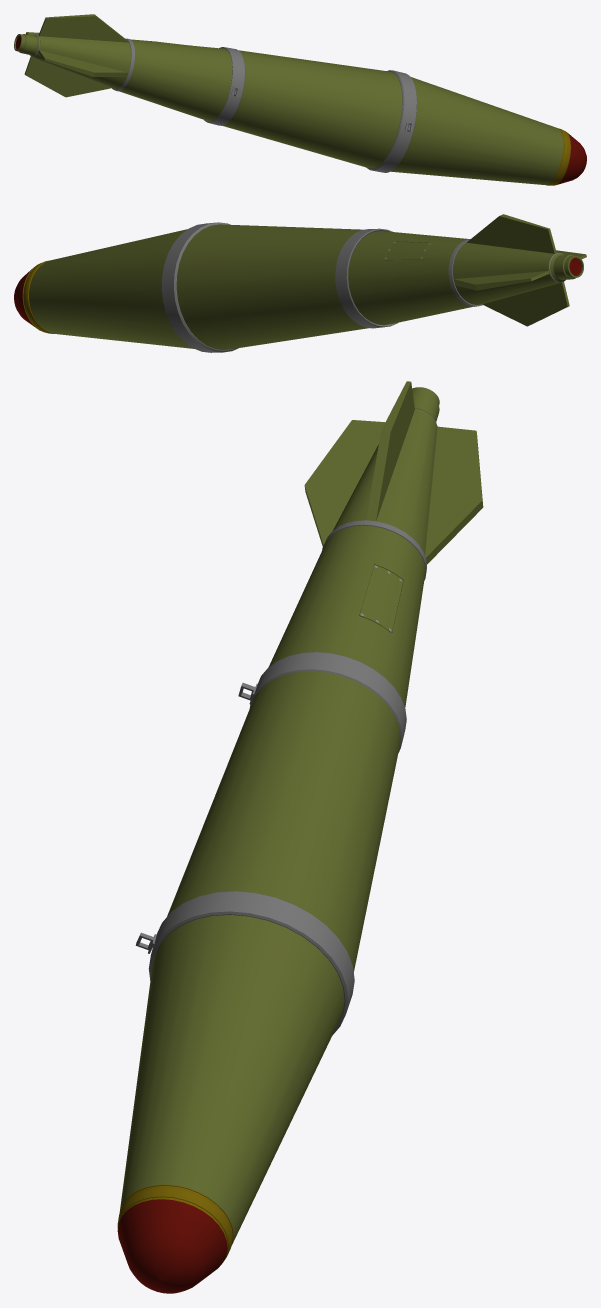
Rendered from Airdrop bomb.fbx.
3 views of the same model, one above another, from view 1: azimuth 30°, elevation 25°; view 2: azimuth 150°, elevation 25°; view 3: azimuth 270°, elevation 25° (orthographic). The views are drawn at different scales.
Visible parts, largest first — view 1: Body; view 2: Body; view 3: Body.
Boxes of the visible parts, left/top/right/bottom form: Body: left=14, top=14, right=586, bottom=185; Body: left=14, top=214, right=586, bottom=352; Body: left=117, top=381, right=483, bottom=1293.
Bounding box in the file's own units: 7.34 × 3.21 × 2.3.
